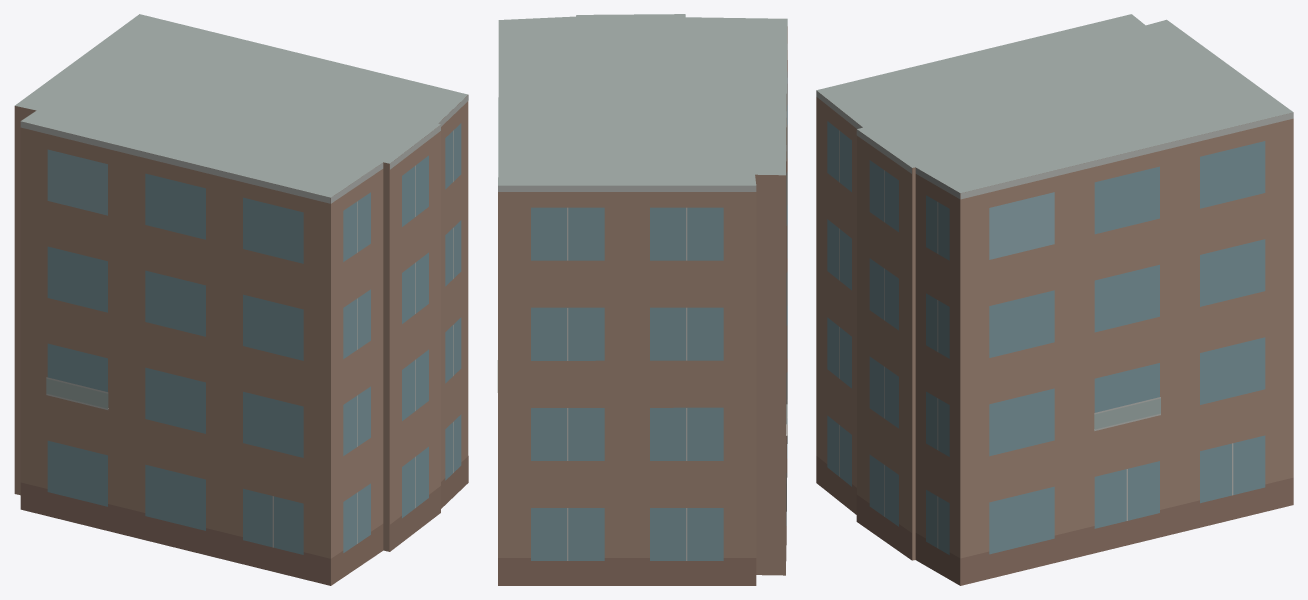
The model's file is survey-upis-32627337.glb.
The picture shows the model from 3 angles, left to right: view 1: azimuth 30°, elevation 25°; view 2: azimuth 150°, elevation 25°; view 3: azimuth 270°, elevation 25°; orthographic projection. The views are drawn at different scales.
Parts seen in each view (by area): view 1: survey-upis-32627337.tmp; view 2: survey-upis-32627337.tmp; view 3: survey-upis-32627337.tmp.
Part boxes in pixels (x1,y1,x2,y2): survey-upis-32627337.tmp: (14,14,468,585); survey-upis-32627337.tmp: (497,14,787,585); survey-upis-32627337.tmp: (816,14,1293,585).
Bounding box in the file's own units: 14.99 × 15.3 × 16.87.
